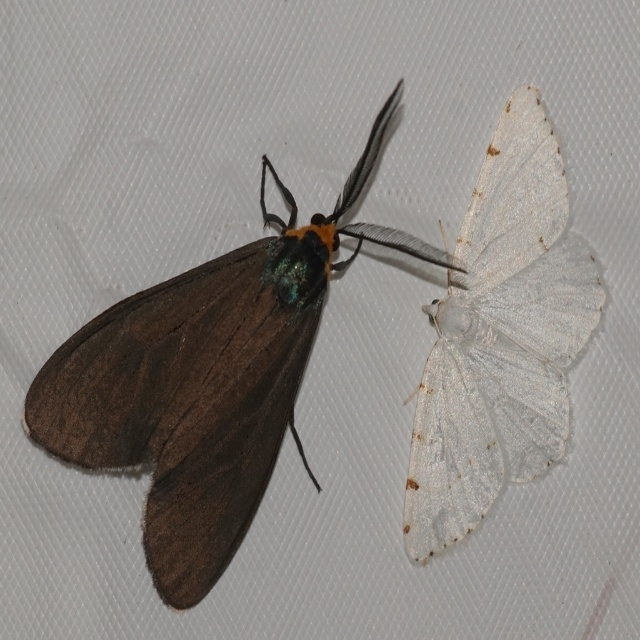Butterfly: (37, 74, 506, 614), (402, 83, 610, 561)
